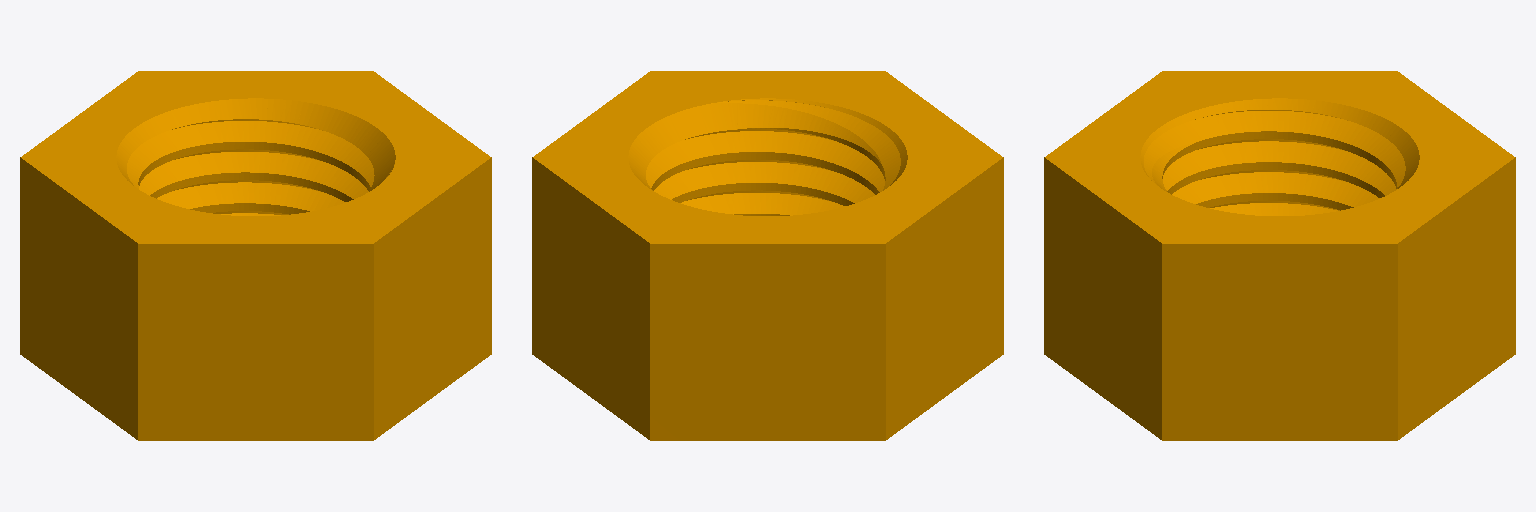
URDF robot description (factory_nut_m20_tight):
<?xml version="1.0"?>
<robot name="factory_nut_m20_tight">
    <link name="factory_nut_m20_tight">
        <visual>
            <geometry>
                <mesh filename="../mesh/factory_nut_bolt/factory_nut_m20_tight_subdiv_3x.obj"/>
            </geometry>
        </visual>
        <collision>
            <geometry>
                <mesh filename="../mesh/factory_nut_bolt/factory_nut_m20_tight_subdiv_3x.obj"/>
            </geometry>
            <sdf resolution="256"/>
        </collision>
    </link>
</robot>

--- What the picture shows (computed from the rendered views, not written in the file) ---
3 views of the same robot in one strip: view 1: azimuth 30°, elevation 25°; view 2: azimuth 150°, elevation 25°; view 3: azimuth 270°, elevation 25° (orthographic).
Robot: factory_nut_m20_tight — 1 links, 0 joints (none); root link factory_nut_m20_tight; default pose: every joint at zero.
Visible links, largest first — view 1: factory_nut_m20_tight; view 2: factory_nut_m20_tight; view 3: factory_nut_m20_tight.
Link boxes in pixels (x1=…): factory_nut_m20_tight: x1=20, y1=71, x2=491, y2=440; factory_nut_m20_tight: x1=532, y1=71, x2=1003, y2=440; factory_nut_m20_tight: x1=1044, y1=71, x2=1515, y2=440.
Size in the robot's own frame: 0.03 by 0.0346 by 0.016 metres.
Meshes: 1 distinct files referenced, 1 mesh visuals loaded (1 OBJ).